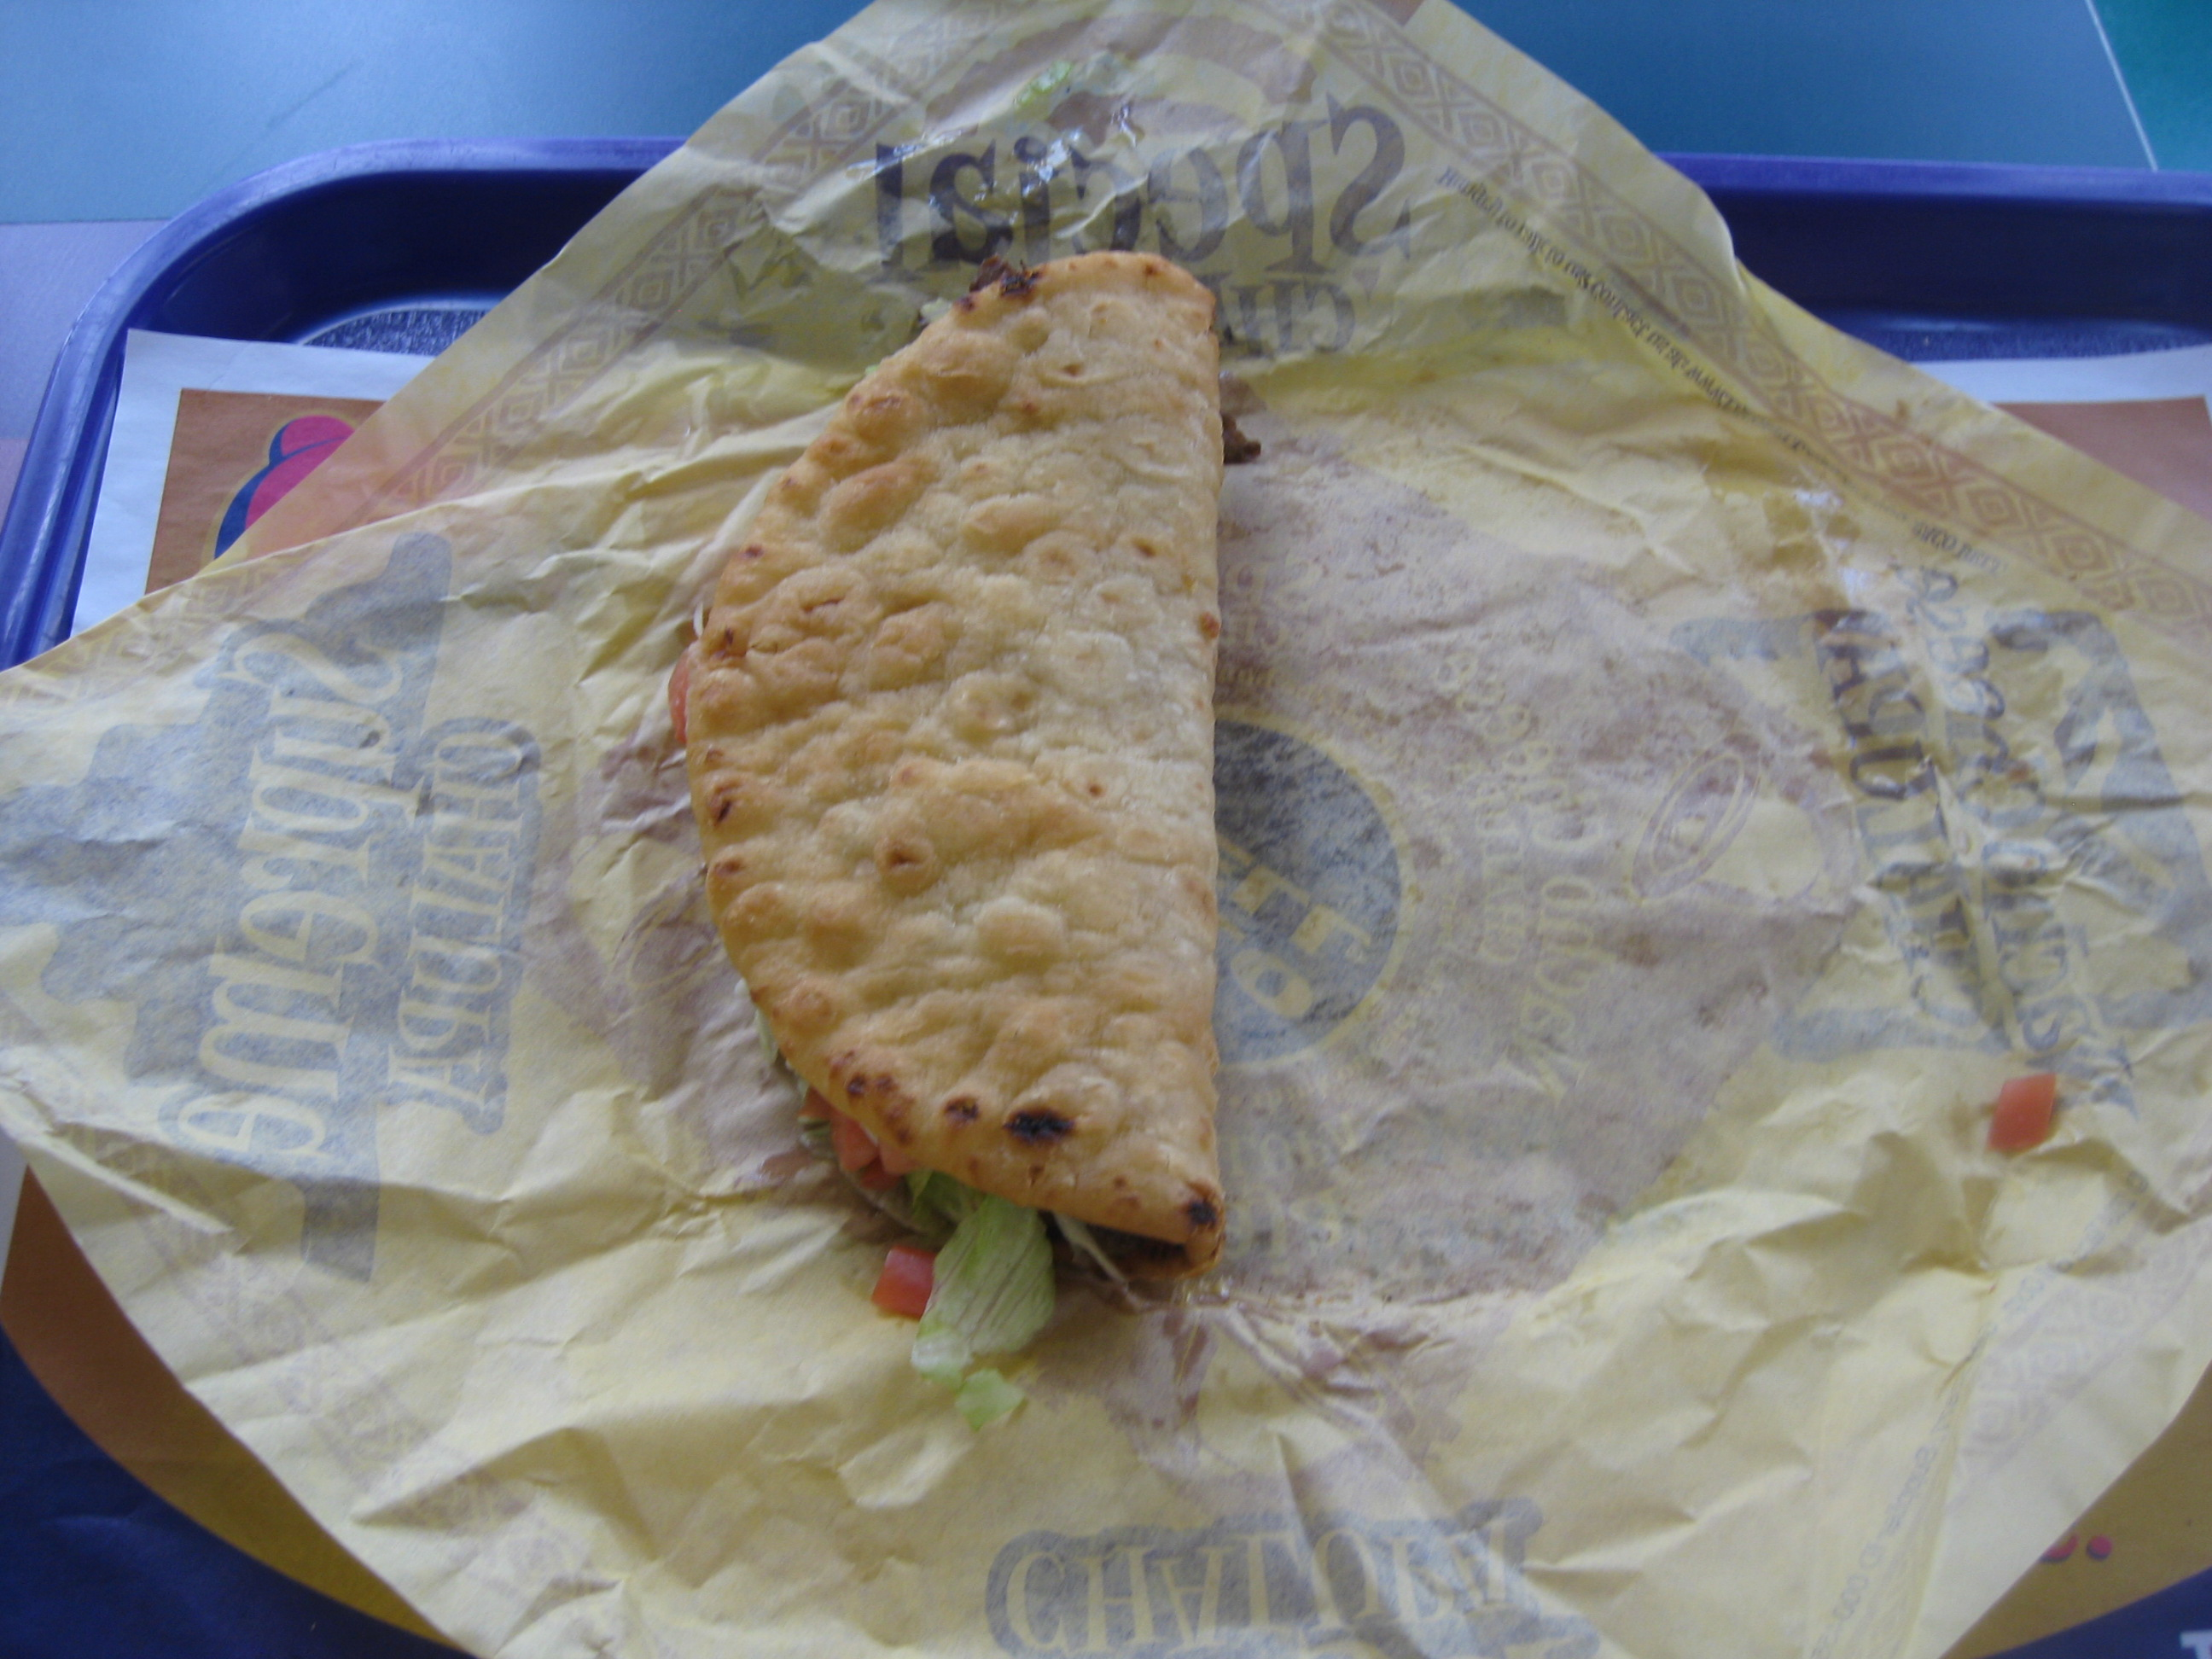taco: (603, 208, 1487, 1307)
